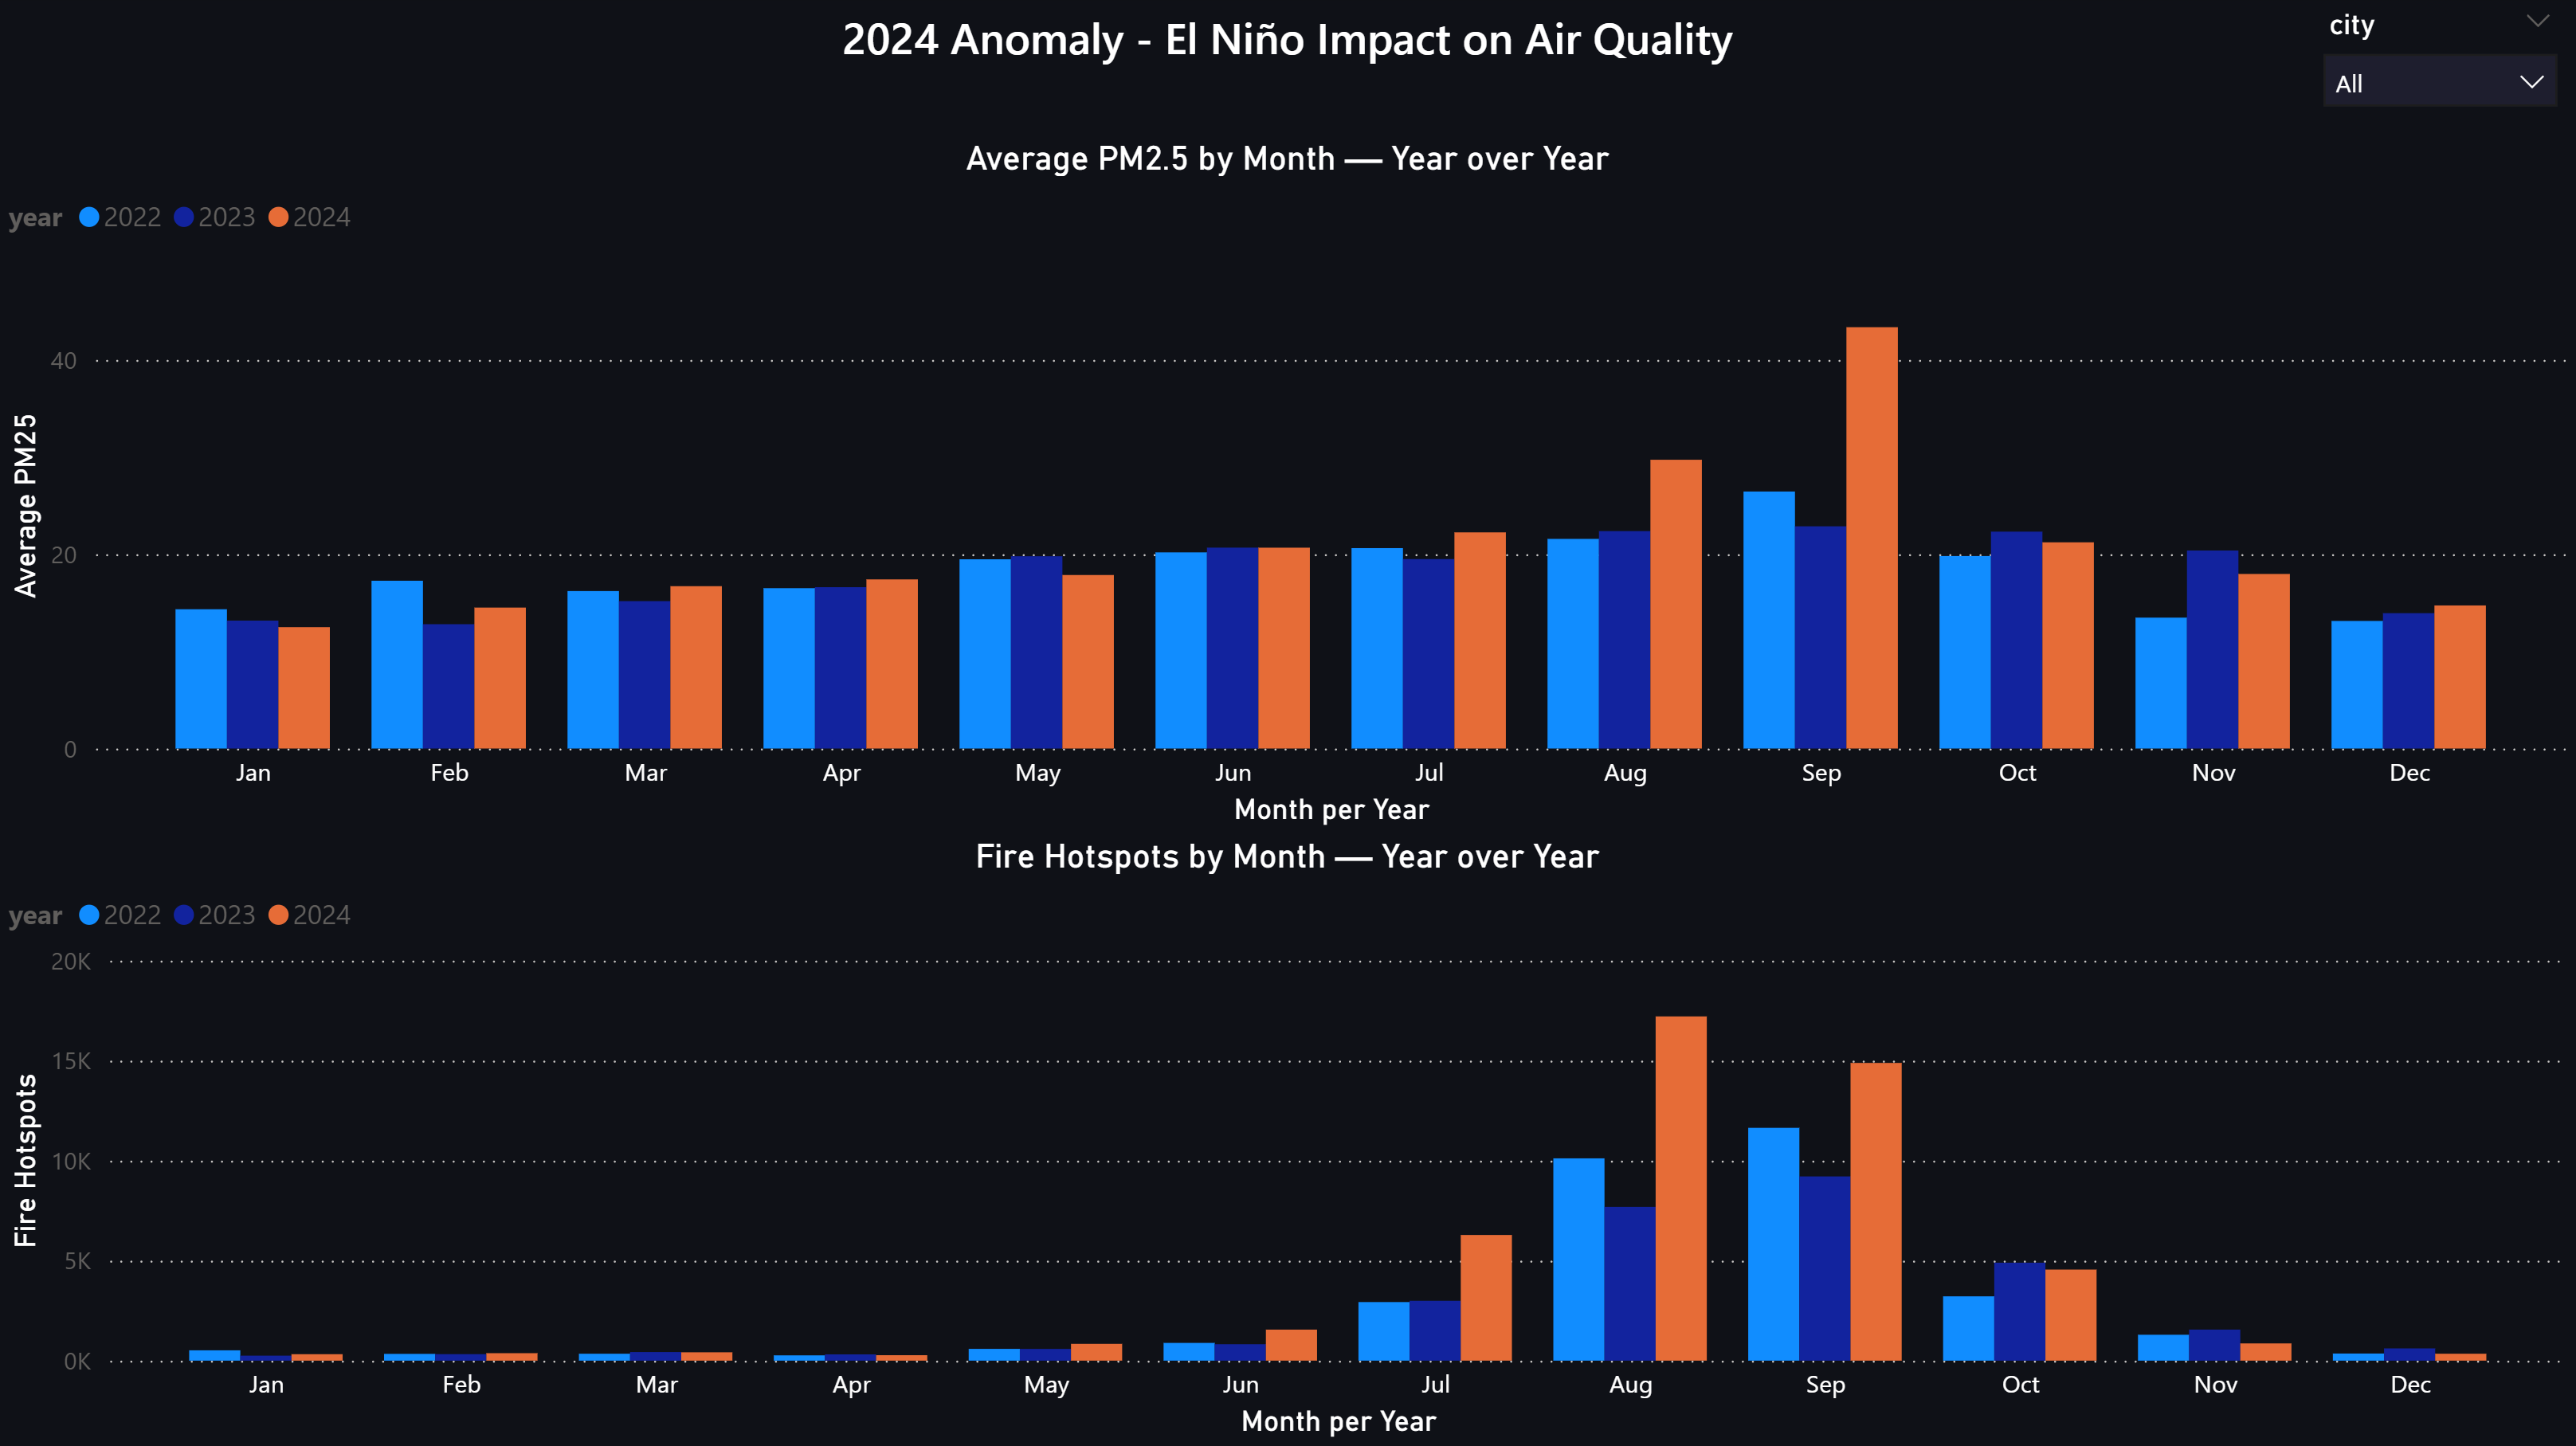

What the dashboard file says about the page in this screenshot:
{"tool":"powerbi","page":{"name":"2024 Anomaly","canvas":[1280,720],"ordinal":2},"visuals":[{"type":"textbox","box":[0,0,1280,100.2],"z":0},{"type":"clusteredColumnChart","title":"Average PM2.5 by Month — Year over Year","fields":{"Y":["integrated.Avg PM25"],"Series":["integrated.year"],"Category":["integrated.Month Name"]},"box":[0,69.4,1280,346.5],"z":1000},{"type":"slicer","fields":{"Values":["Table.city"]},"box":[1144.4,0,135.6,62.2],"z":2000},{"type":"clusteredColumnChart","title":"Fire Hotspots by Month — Year over Year","fields":{"Y":["Sum(integrated.hotspot_count)"],"Category":["integrated.Month Name"],"Series":["integrated.year"]},"box":[0,416,1280,304],"z":3000}]}

Visuals, with their boxes in screenshot pixels (x1, y1, x2, y2), scaled from the page's 1280x720 canvas onto the 2576x1446 screenshot:
textbox: locate(0, 0, 2575, 202)
"Average PM2.5 by Month — Year over Year" clusteredColumnChart: locate(0, 139, 2575, 835)
slicer - Table.city: locate(2304, 0, 2575, 125)
"Fire Hotspots by Month — Year over Year" clusteredColumnChart: locate(0, 836, 2575, 1445)
